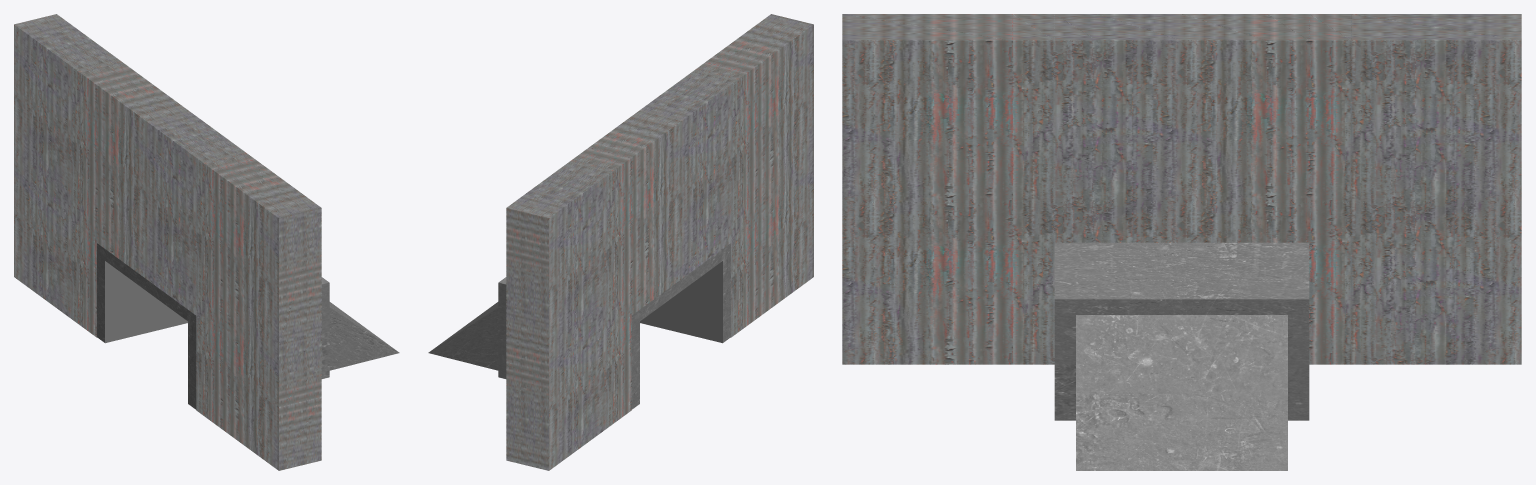
Rendered from goal wall 1.glb.
3 renders of one model, left to right at view 1: azimuth 30°, elevation 25°; view 2: azimuth 150°, elevation 25°; view 3: azimuth 270°, elevation 25°, orthographic. The views are drawn at different scales.
Visible parts, largest first — view 1: goal wall 1, goal 1, goal 1 back; view 2: goal wall 1, goal 1, goal 1 back; view 3: goal wall 1, goal 1 back, goal 1.
Part boxes in pixels (x1,y1,x2,y2): goal wall 1: (14, 14, 321, 470); goal 1: (97, 243, 329, 409); goal 1 back: (329, 302, 399, 370); goal wall 1: (506, 14, 813, 470); goal 1: (498, 243, 730, 409); goal 1 back: (428, 302, 498, 370); goal wall 1: (842, 14, 1521, 364); goal 1 back: (1076, 315, 1287, 470); goal 1: (1054, 242, 1309, 420).
Size of the model in its own units: 191 by 218 by 413.
2 materials, 2 textured.
